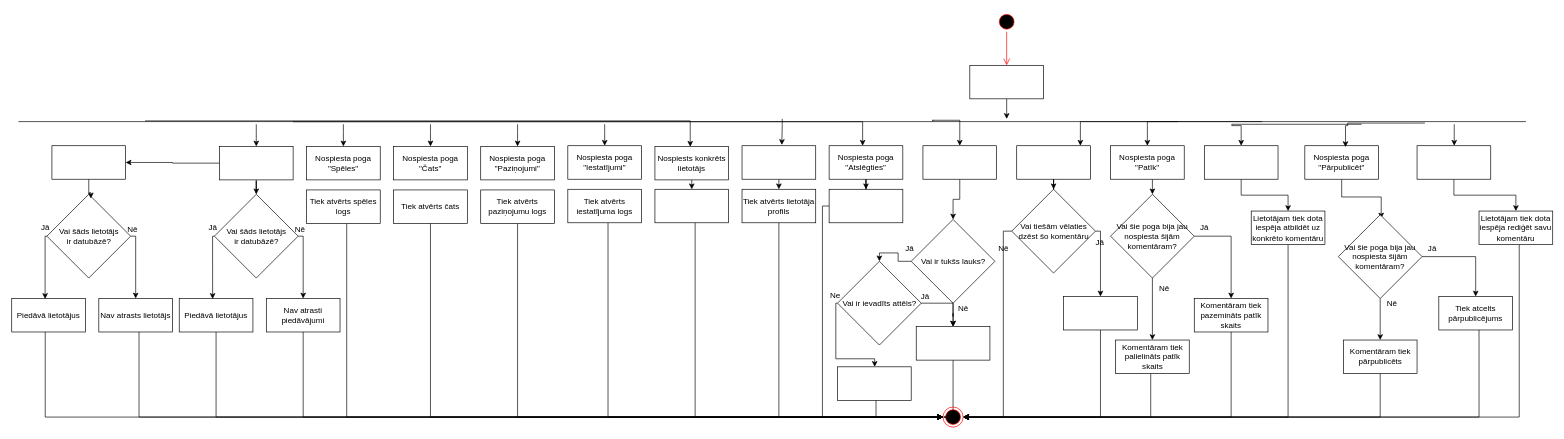
The diagram is 1564 pixels wide and 439 high, and some of its shapes have lost their labels. The shapes that lost their labels are listed below. From the top down, each one's centre as x and y in pixels, then its label:
point (1006, 82): "Sākumlapas logs"
point (88, 162): Tiek nospiesta meklēšanas poga
point (256, 163): Tiek ievadīts lietotājavārds meklēšanas logā
point (778, 162): Nospiesta poga "Profils"
point (959, 162): Nospiesta poga "Publicēt"
point (1053, 162): Nospiesta poga "Dzēst"
point (1241, 162): Nospiesta poga "Atbildēt"
point (1453, 162): Nospiesta poga "Rediģēt"
point (691, 206): Tiek atvērts tā lietotāja profils
point (865, 206): Lietotājs tiek aizvests uz "Autorizācijas logu"
point (1100, 313): Specifiskais komentārs tiek dzēsts
point (953, 343): Komentārs tiek publicēts
point (874, 383): "Nevar būt tukšs lauks"
